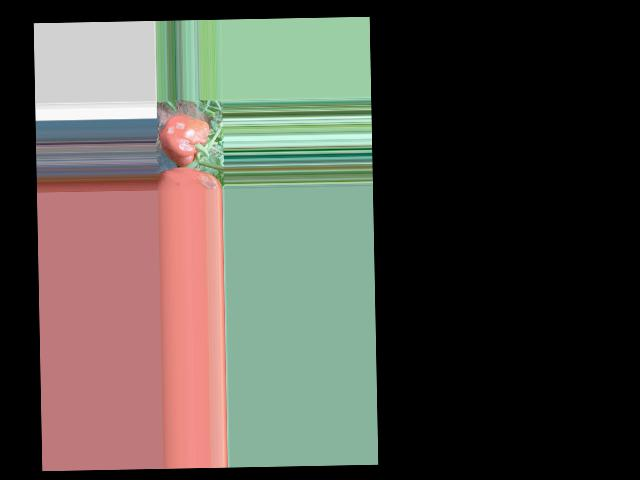bell_pepper: (155, 116, 214, 165)
